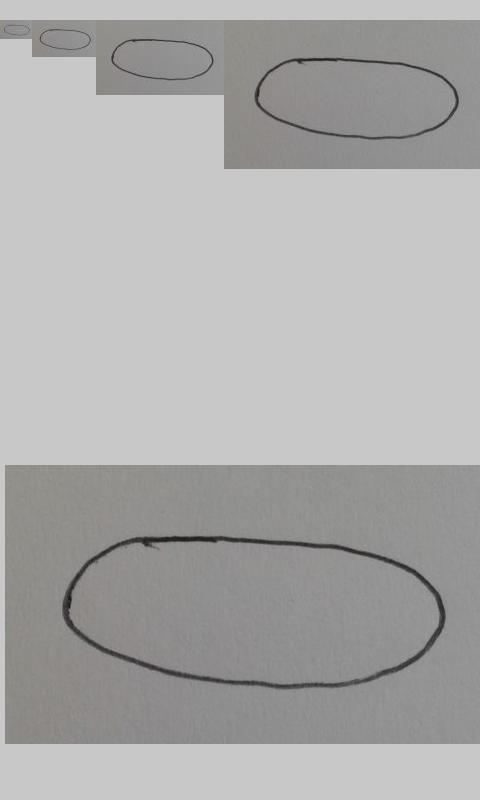chip: (62, 534, 446, 691), (254, 56, 461, 140), (111, 39, 214, 81), (39, 28, 91, 51), (4, 24, 31, 36)
